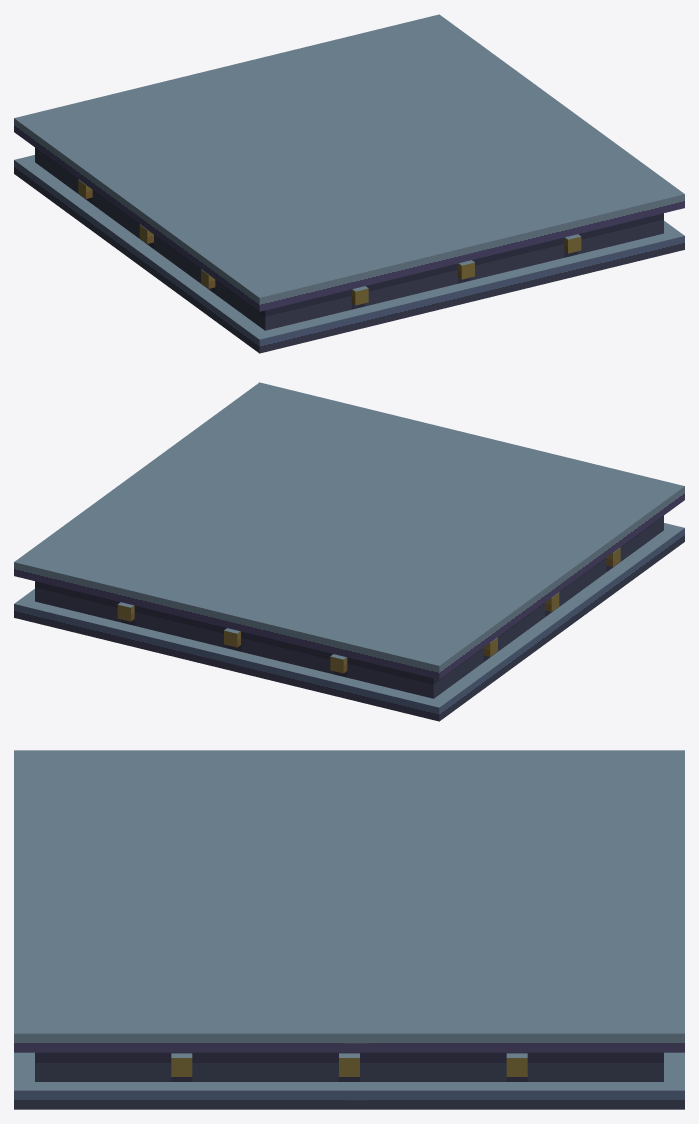
Rendered from lesser_gate__base_industao.fezao.glb.
The picture shows the model from 3 angles, top to bottom: view 1: azimuth 30°, elevation 25°; view 2: azimuth 150°, elevation 25°; view 3: azimuth 270°, elevation 25°; orthographic projection. The views are drawn at different scales.
Visible parts, largest first — view 1: LESSER_GATE__BASE_INDUSTAO; view 2: LESSER_GATE__BASE_INDUSTAO; view 3: LESSER_GATE__BASE_INDUSTAO.
Part boxes in pixels (x1,y1,x2,y2): LESSER_GATE__BASE_INDUSTAO: (14,14,684,353); LESSER_GATE__BASE_INDUSTAO: (14,382,684,721); LESSER_GATE__BASE_INDUSTAO: (14,750,684,1109).
Bounding box in the file's own units: 4 × 0.5 × 4.
1 material, 1 textured.
